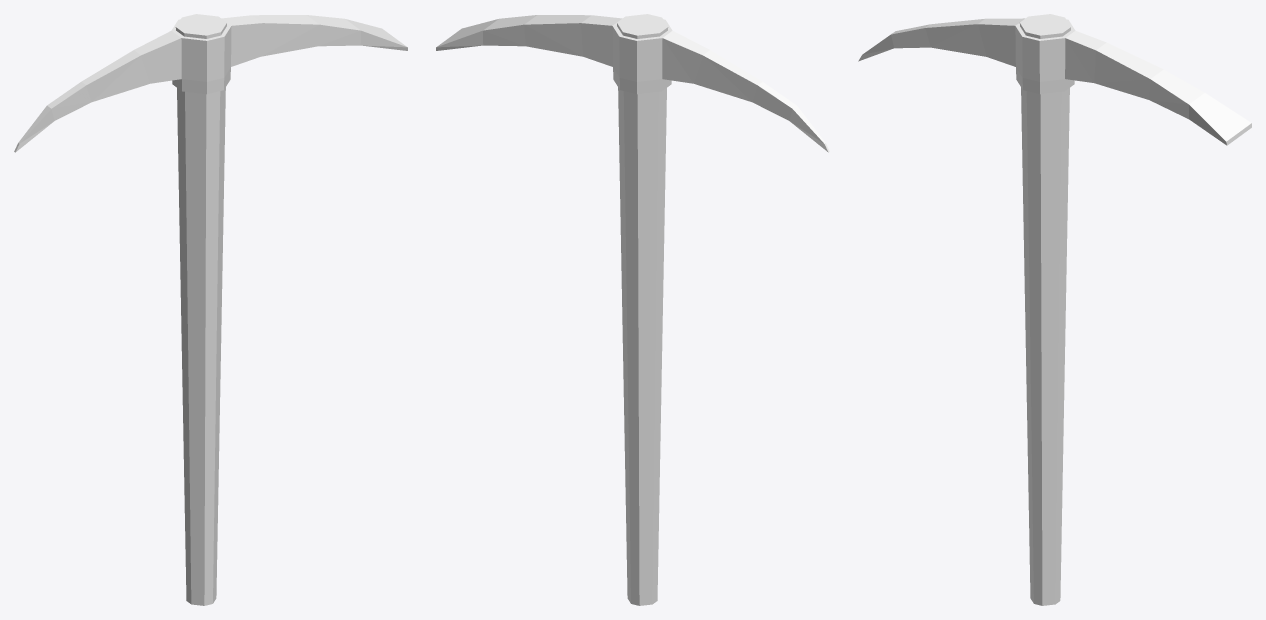
File: Tool_Pickaxe_01.glb
The picture shows the model from 3 angles, left to right: view 1: azimuth 30°, elevation 25°; view 2: azimuth 150°, elevation 25°; view 3: azimuth 330°, elevation 25°; orthographic projection.
Parts seen in each view (by area): view 1: Tool_Pickaxe_01; view 2: Tool_Pickaxe_01; view 3: Tool_Pickaxe_01.
Part boxes in pixels (left/top/right/bottom): Tool_Pickaxe_01: left=14, top=14, right=407, bottom=605; Tool_Pickaxe_01: left=436, top=14, right=829, bottom=605; Tool_Pickaxe_01: left=858, top=14, right=1251, bottom=605.
Bounding box in the file's own units: 0.6033 × 0.8703 × 0.0793.
Materials: 1 (1 with a texture image).
